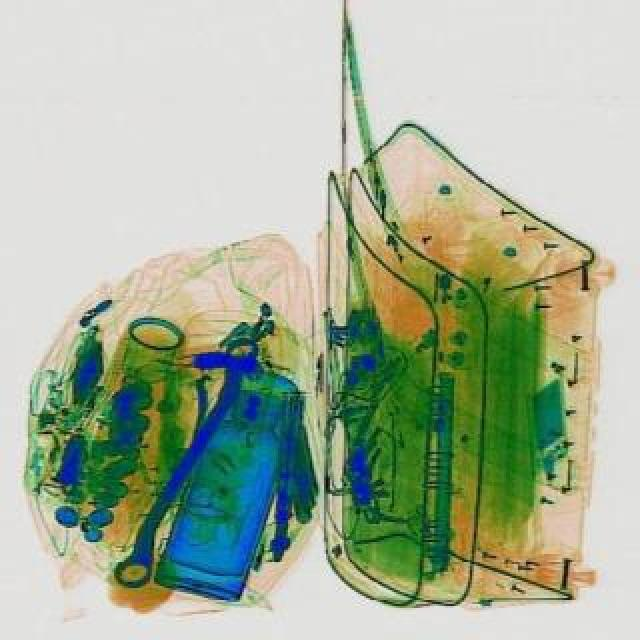scissors: (106, 330, 268, 592)
